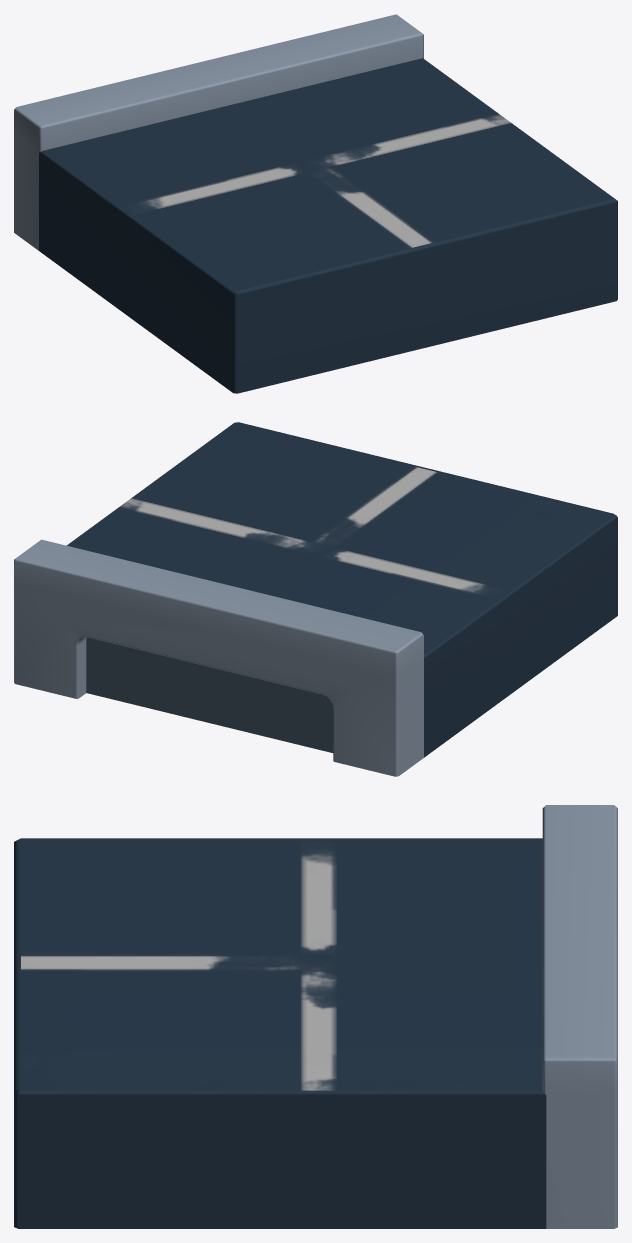
Rendered from road_0.fbx.
3 renders of one model, top to bottom at view 1: azimuth 30°, elevation 25°; view 2: azimuth 150°, elevation 25°; view 3: azimuth 270°, elevation 25°, orthographic. The views are drawn at different scales.
Parts seen in each view (by area): view 1: road_0; view 2: road_0; view 3: road_0.
Boxes of the visible parts, <box> form: road_0: <box>14,14,617,393</box>; road_0: <box>14,422,617,776</box>; road_0: <box>14,805,617,1228</box>.
Size of the model in its own units: 8 by 2.49 by 8.
